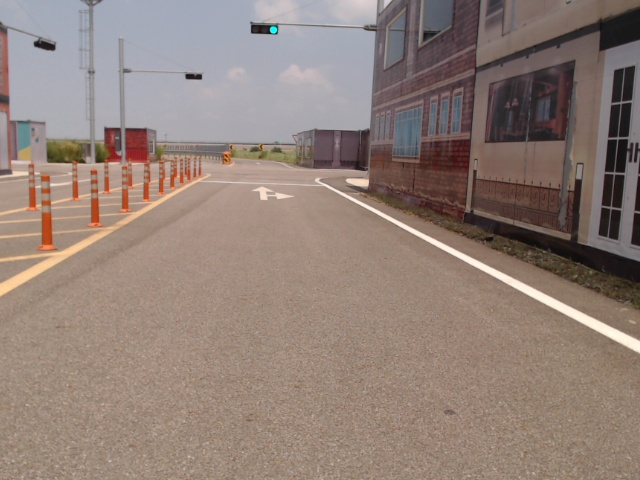green_3: (250, 24, 279, 35)
